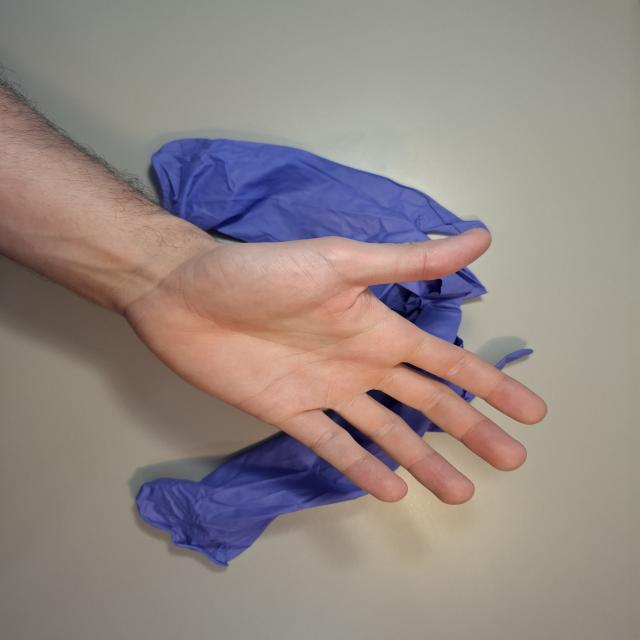glove_off: (120, 223, 554, 506)
